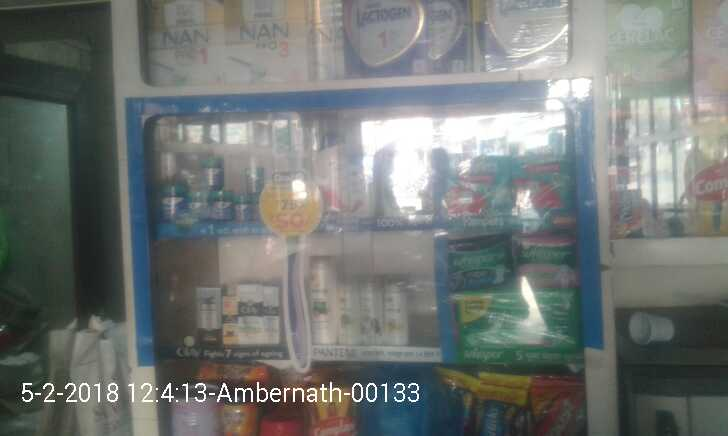beauty: (303, 250, 336, 351), (237, 289, 278, 352), (192, 283, 227, 344), (381, 282, 411, 344), (356, 282, 382, 340), (338, 283, 356, 347)
pharmacy: (444, 149, 516, 223), (508, 147, 570, 217), (446, 236, 513, 291), (518, 228, 579, 284), (154, 180, 185, 221), (194, 155, 223, 191), (204, 194, 234, 224), (184, 185, 202, 224), (233, 191, 255, 219)
